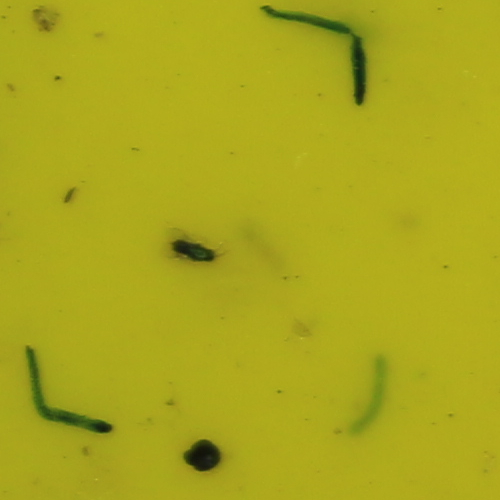Psyllaephagus: (170, 238, 219, 267)
